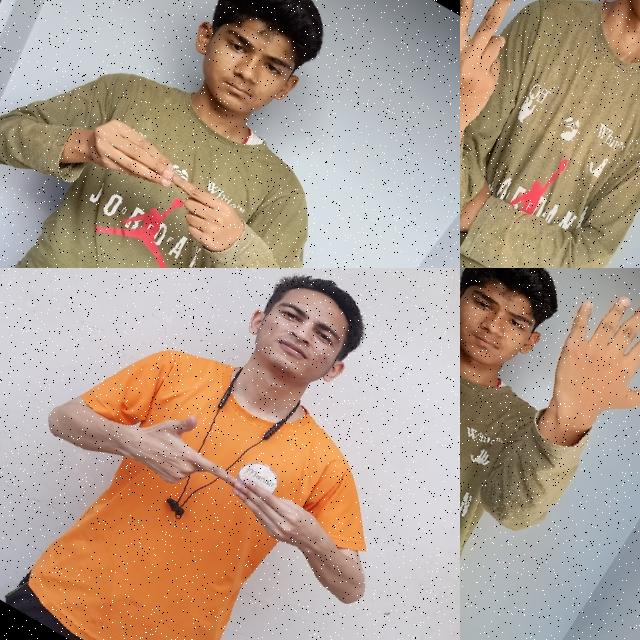Five Fathers: (107, 383, 346, 575), (58, 105, 259, 268)
Moutza: (514, 268, 640, 479)
Reversed Victory: (460, 0, 569, 173)
